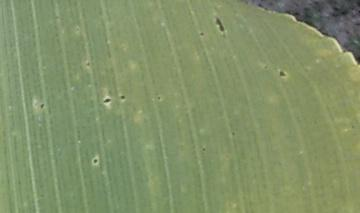tarspot: (212, 13, 226, 34), (278, 69, 288, 79), (102, 96, 112, 105), (91, 157, 99, 165), (119, 93, 126, 102), (39, 101, 45, 111), (229, 129, 236, 137), (198, 30, 205, 37), (85, 60, 92, 67), (200, 146, 207, 153), (155, 95, 162, 101)
